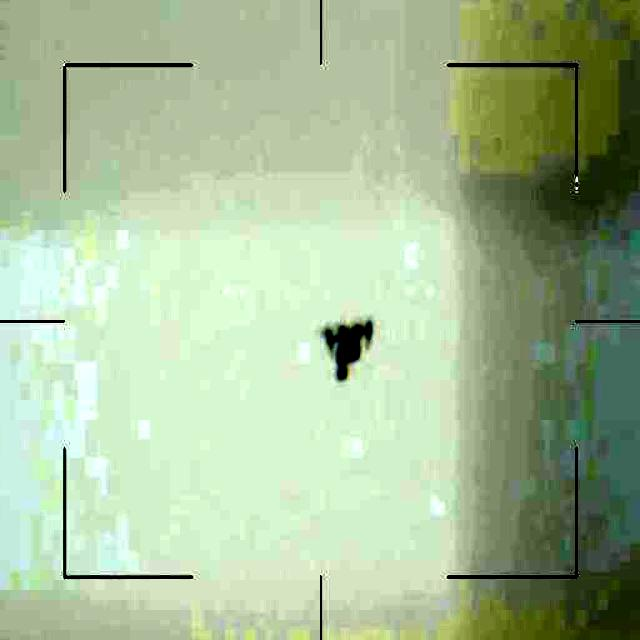bird: (315, 315, 384, 382)
